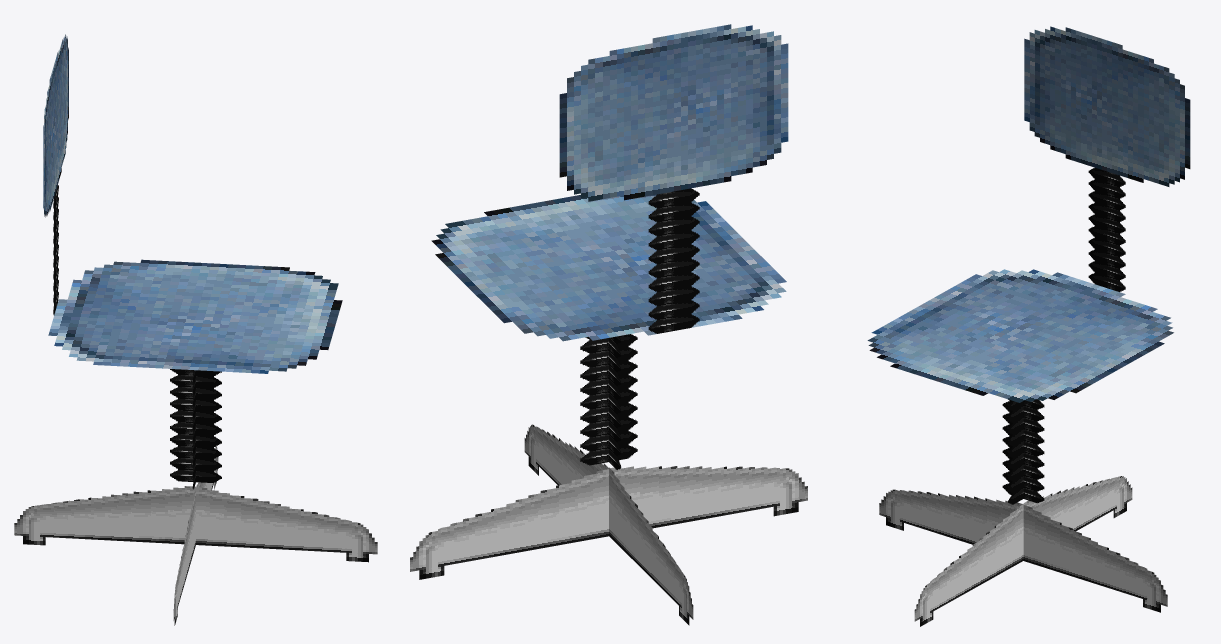
The model's file is blue_chair.glb.
3 views of the same model, side by side, from view 1: azimuth 30°, elevation 25°; view 2: azimuth 150°, elevation 25°; view 3: azimuth 270°, elevation 25° (orthographic). The views are drawn at different scales.
Parts seen in each view (by area): view 1: Object; view 2: Object; view 3: Object.
Part boxes in pixels (x1,y1,x2,y2): Object: [14, 34, 377, 625]; Object: [410, 24, 807, 625]; Object: [867, 26, 1190, 626].
Bounding box in the file's own units: 0.7629 × 1.09 × 0.7514.
Materials: 3 (3 with a texture image).
